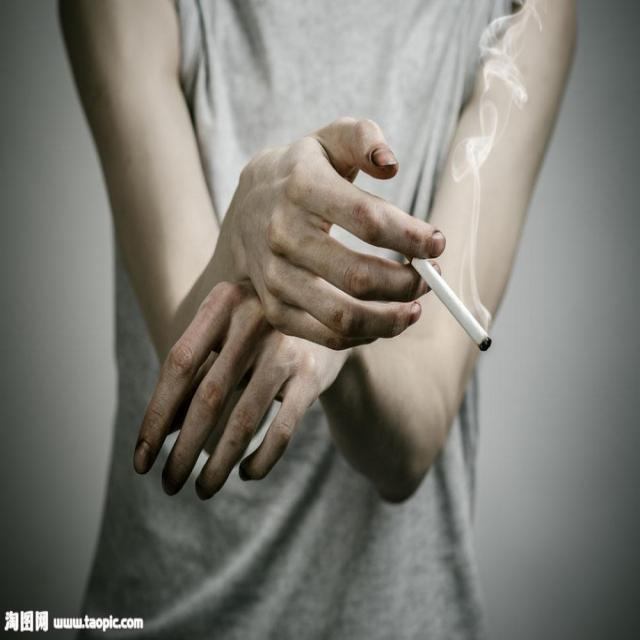smoke: (404, 236, 494, 360)
